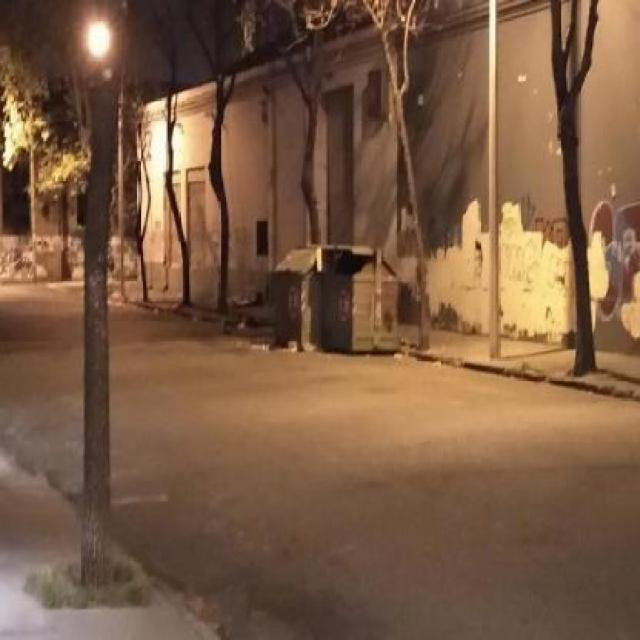garbage: (385, 323, 428, 359), (302, 231, 326, 291), (271, 330, 308, 359)
